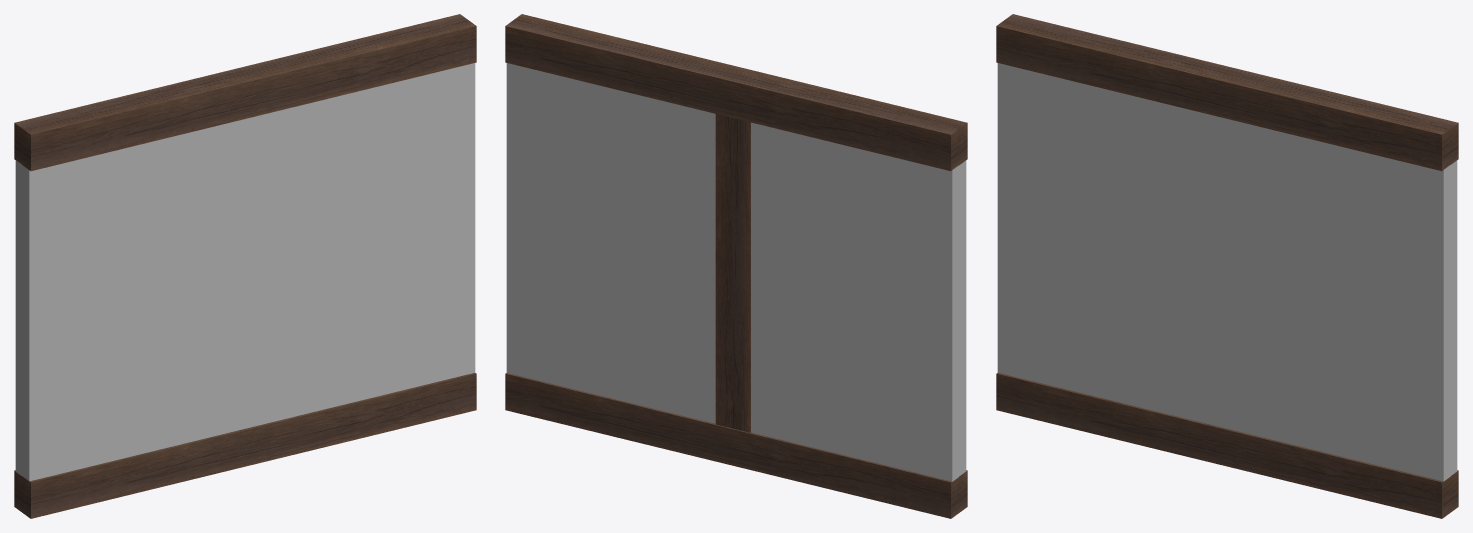
The model's file is yane_frame_side_1t_b.fbx.
3 renders of one model, left to right at view 1: azimuth 30°, elevation 25°; view 2: azimuth 150°, elevation 25°; view 3: azimuth 330°, elevation 25°, orthographic.
Visible parts, largest first — view 1: yane_frame_side_1t_b; view 2: yane_frame_side_1t_b; view 3: yane_frame_side_1t_b.
Part boxes in pixels (x1,y1,x2,y2): yane_frame_side_1t_b: (14, 14, 476, 518); yane_frame_side_1t_b: (505, 14, 967, 518); yane_frame_side_1t_b: (996, 14, 1458, 518).
Bounding box in the file's own units: 220 × 181 × 14.1.
